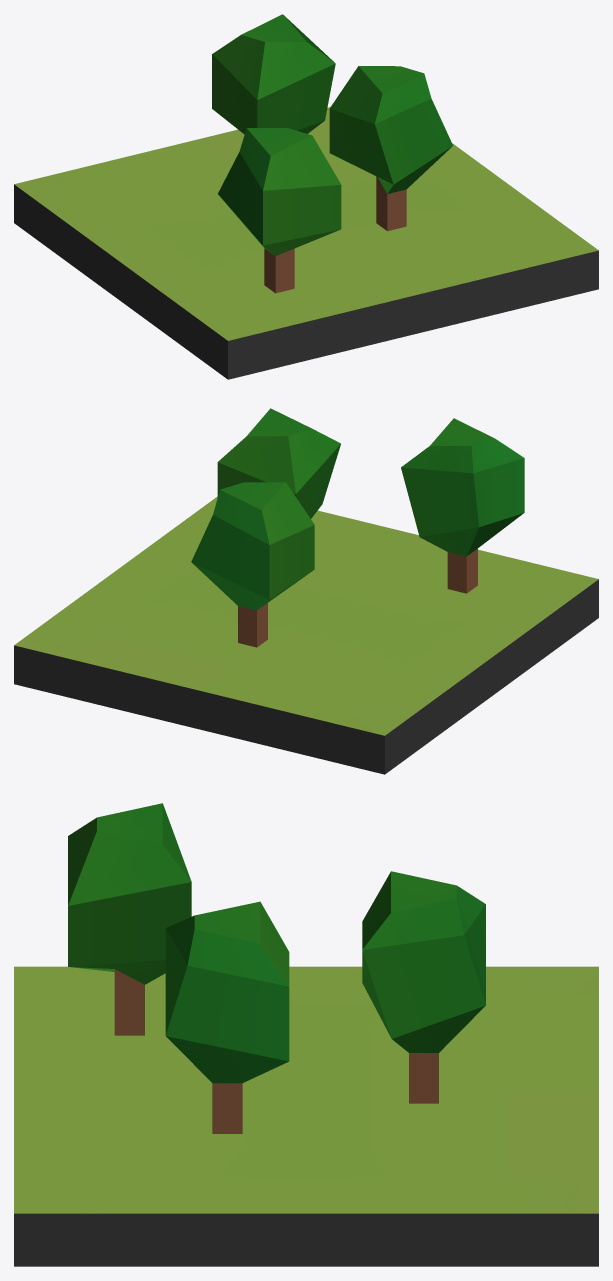
The model's file is trees_3.fbx.
The picture shows the model from 3 angles, top to bottom: view 1: azimuth 30°, elevation 25°; view 2: azimuth 150°, elevation 25°; view 3: azimuth 270°, elevation 25°; orthographic projection. The views are drawn at different scales.
Visible parts, largest first — view 1: block; view 2: block; view 3: block.
Part boxes in pixels (x1,y1,x2,y2): block: (14, 14, 598, 379); block: (14, 408, 598, 774); block: (14, 803, 598, 1266).
Bounding box in the file's own units: 200 × 200 × 100.
1 material, 1 textured.
